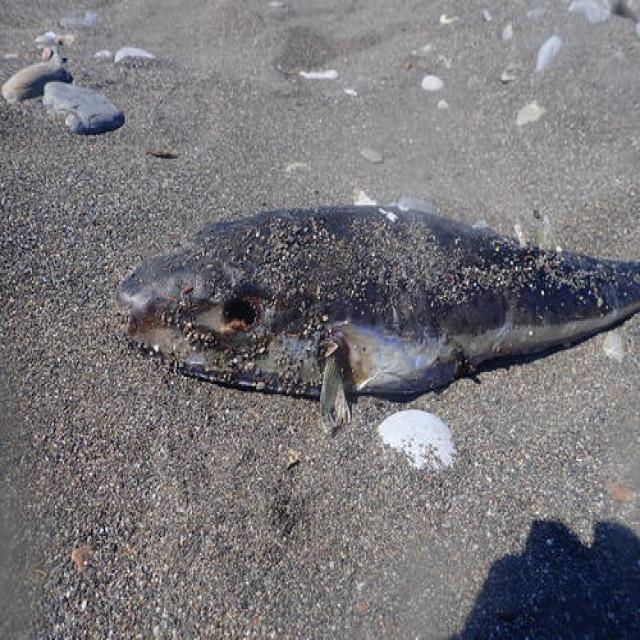Balik: (118, 207, 639, 423)
